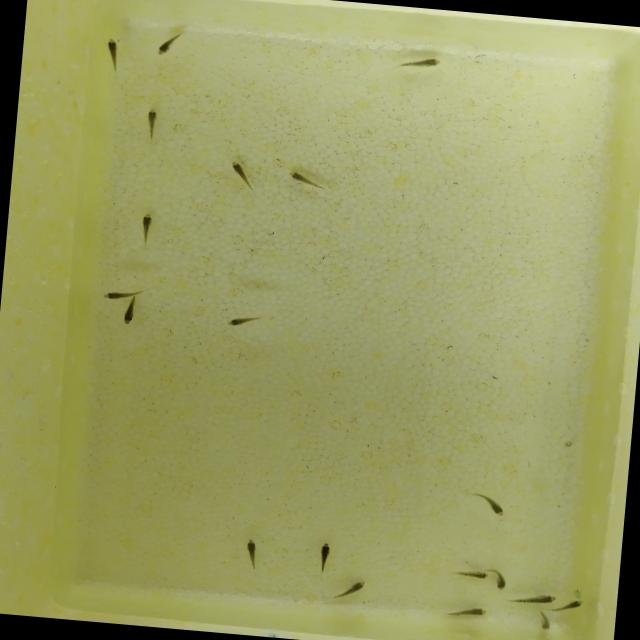fingerling: (123, 204, 168, 252), (277, 164, 337, 198), (463, 485, 517, 520), (388, 48, 446, 79), (212, 306, 270, 336), (96, 30, 132, 77), (220, 152, 259, 195), (149, 26, 193, 63), (134, 102, 168, 144), (439, 600, 493, 624), (328, 576, 371, 606), (236, 532, 265, 574), (110, 299, 150, 329), (309, 536, 338, 576), (511, 588, 562, 610), (486, 559, 514, 596), (439, 564, 489, 582), (94, 286, 142, 300), (532, 610, 554, 636), (561, 594, 588, 614)
